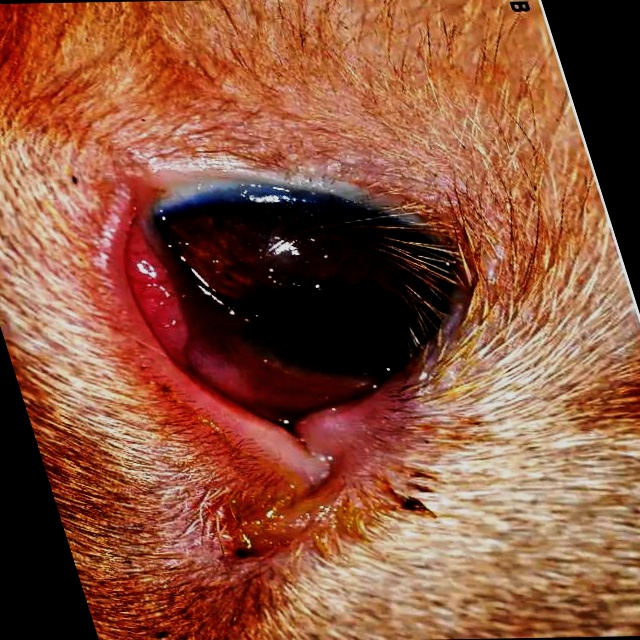eye_infection: (63, 160, 536, 461)
